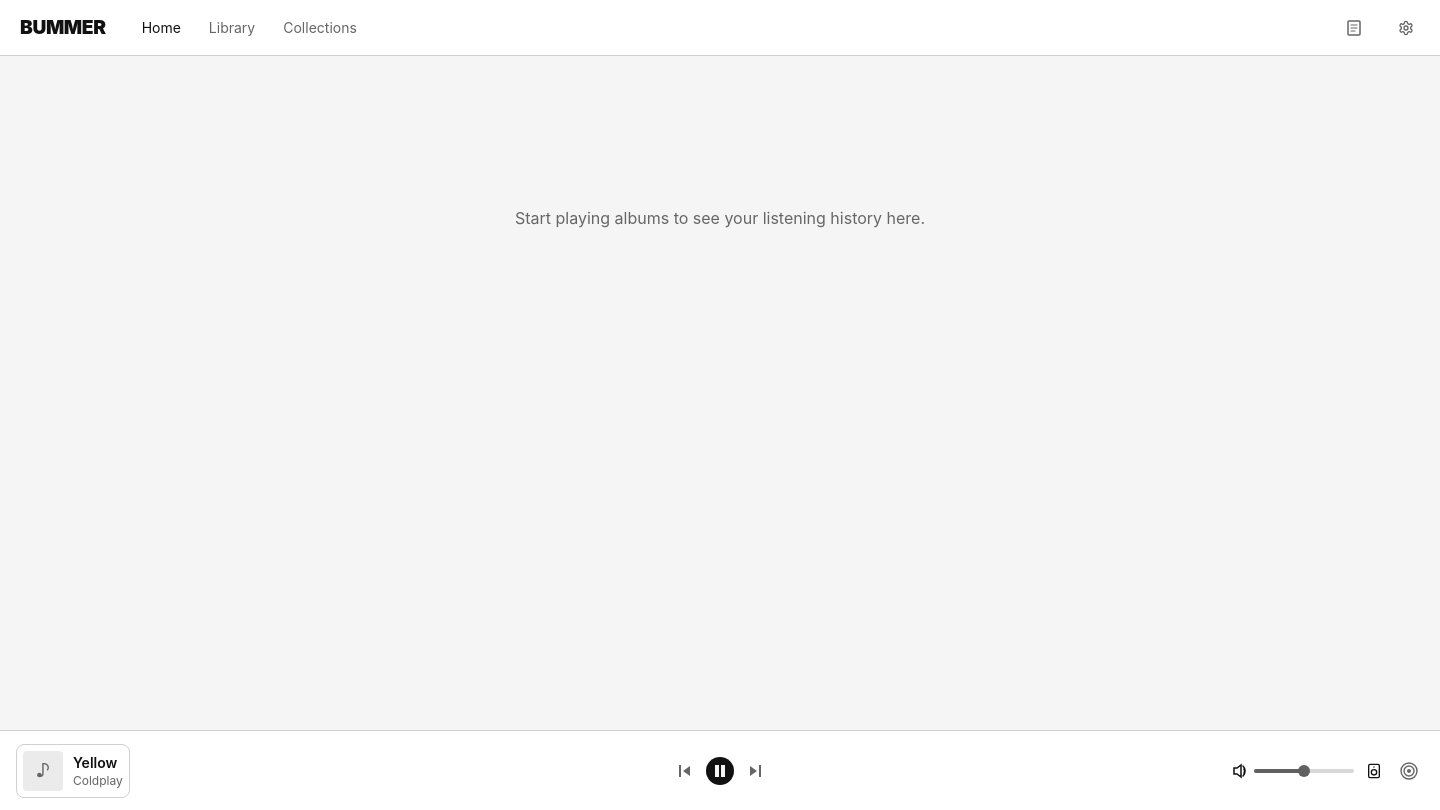
Scenario: App — playback state persistence on reload › resolves now-playing album by service_id when two albums share a name
What coordinates should you click on to do the following:
click the button "Library"
I would click on:
 (232, 28)
Its box is left=197, top=12, right=267, bottom=44.
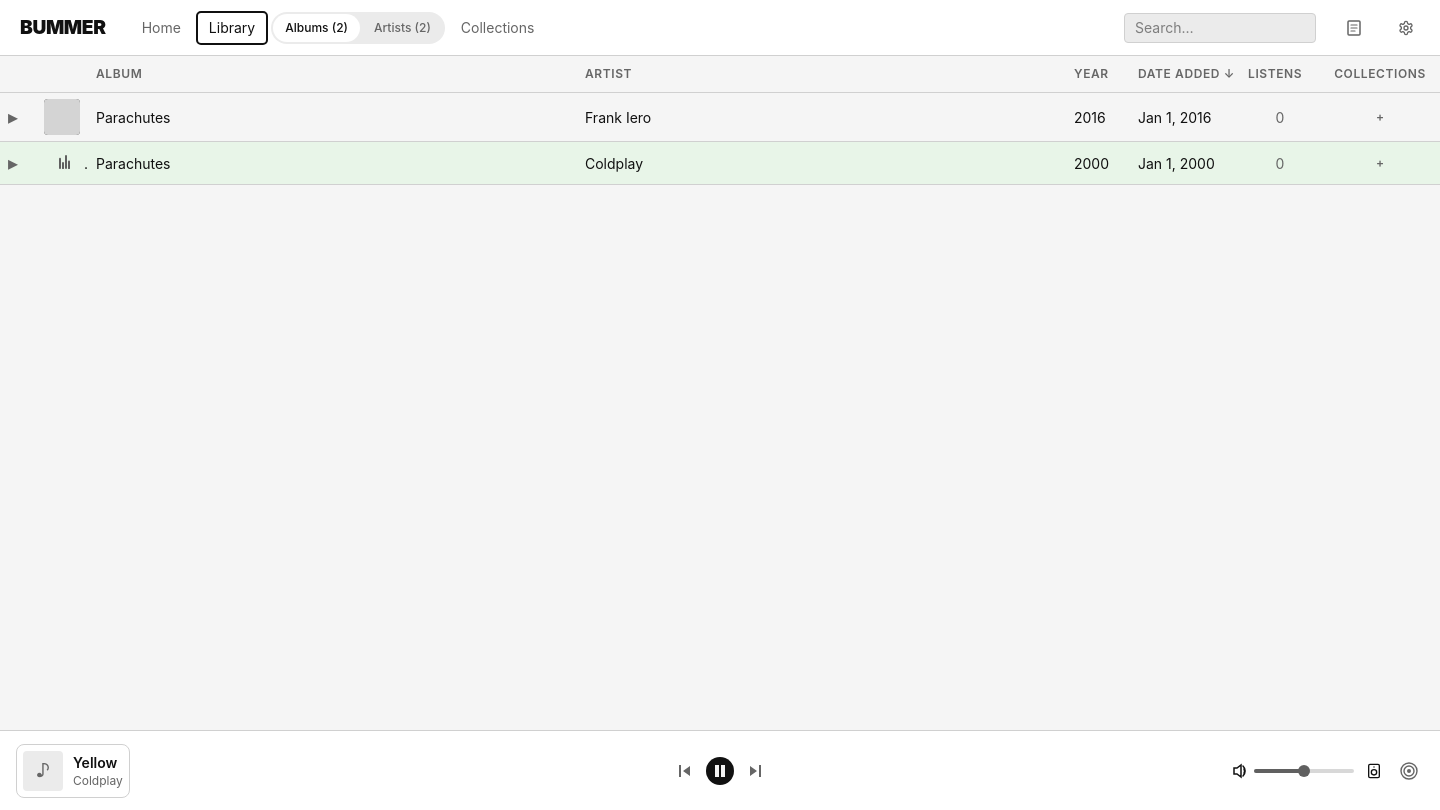
Expected: the row with id "row-album-coldplay-parachutes" is shown, left=0, top=142, right=1439, bottom=184
Expected: the row with id "row-album-frank-iero-parachutes" is shown, left=0, top=92, right=1439, bottom=142
